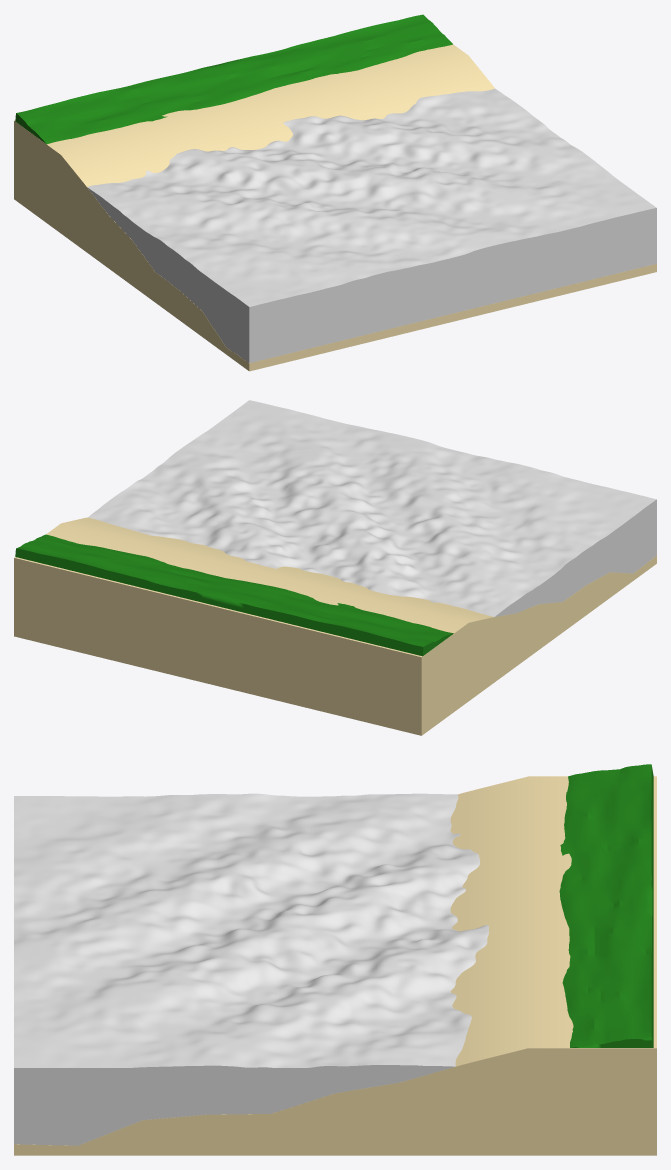
Rendered from Island.fbx.
3 renders of one model, top to bottom at view 1: azimuth 30°, elevation 25°; view 2: azimuth 150°, elevation 25°; view 3: azimuth 270°, elevation 25°, orthographic. The views are drawn at different scales.
Visible parts, largest first — view 1: Cube, Cube.001, Cube.002; view 2: Cube, Cube.001, Cube.002; view 3: Cube, Cube.001, Cube.002.
Boxes of the visible parts, x1,y1,x2,y2 form: Cube: [87, 88, 656, 362]; Cube.001: [14, 44, 656, 371]; Cube.002: [15, 14, 452, 144]; Cube: [88, 400, 656, 616]; Cube.001: [14, 517, 656, 735]; Cube.002: [15, 534, 453, 656]; Cube: [14, 793, 488, 1145]; Cube.001: [14, 776, 656, 1155]; Cube.002: [559, 764, 653, 1047].
Bounding box in the file's own units: 200 × 41.44 × 200.
